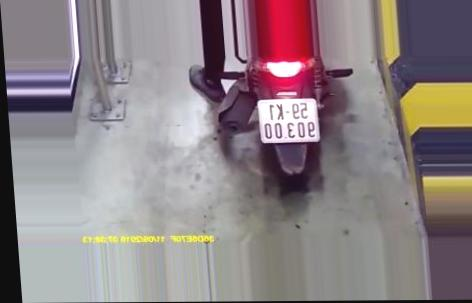License_Plate: (253, 95, 324, 148)
